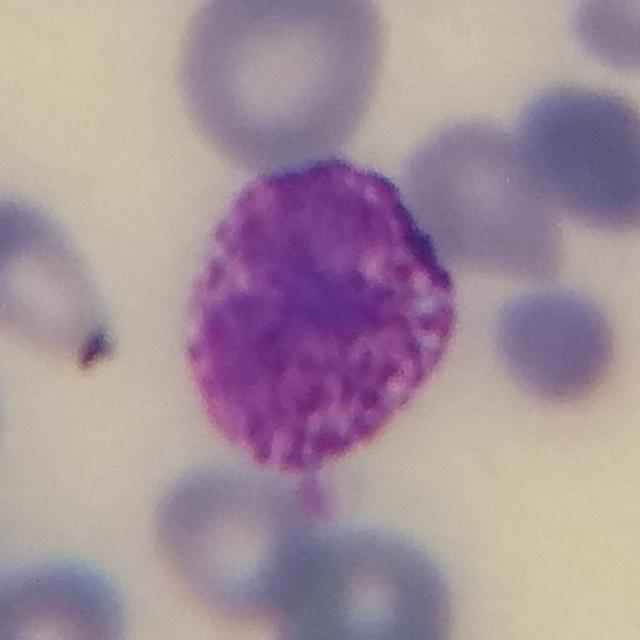Basophil: (162, 143, 480, 501)
RBC: (168, 0, 394, 164), (141, 451, 336, 634), (390, 112, 556, 280), (267, 515, 468, 640), (497, 71, 640, 242), (0, 184, 125, 370), (481, 276, 632, 415), (0, 547, 139, 640), (562, 0, 640, 78)
